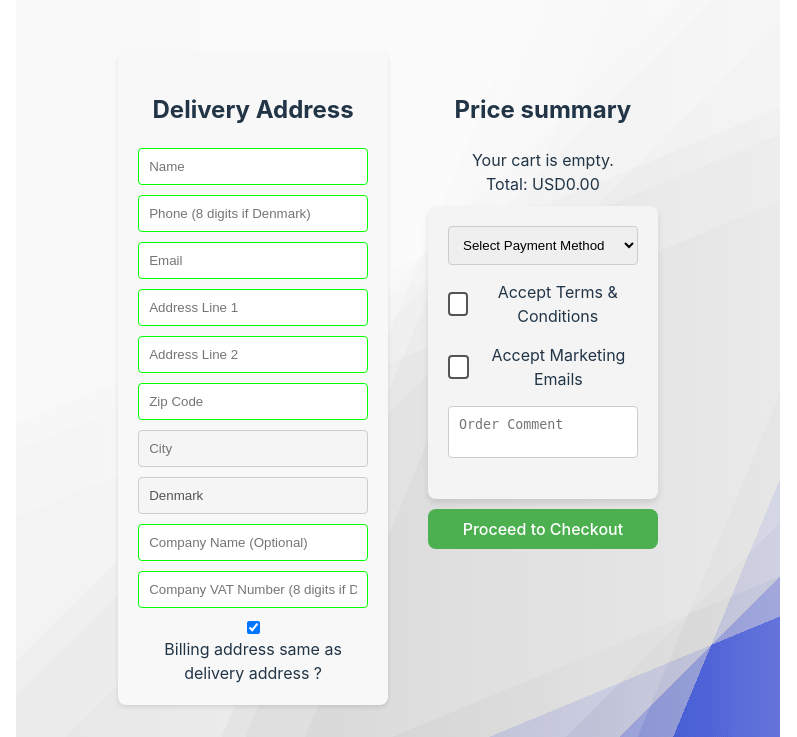
Test: App › displays "Invalid zip code" error for incorrect zip code input
(page scrolled)
Step 1. Type "0000" into the field with placeholder "Zip Code" → (253, 402), box [138, 383, 368, 420]
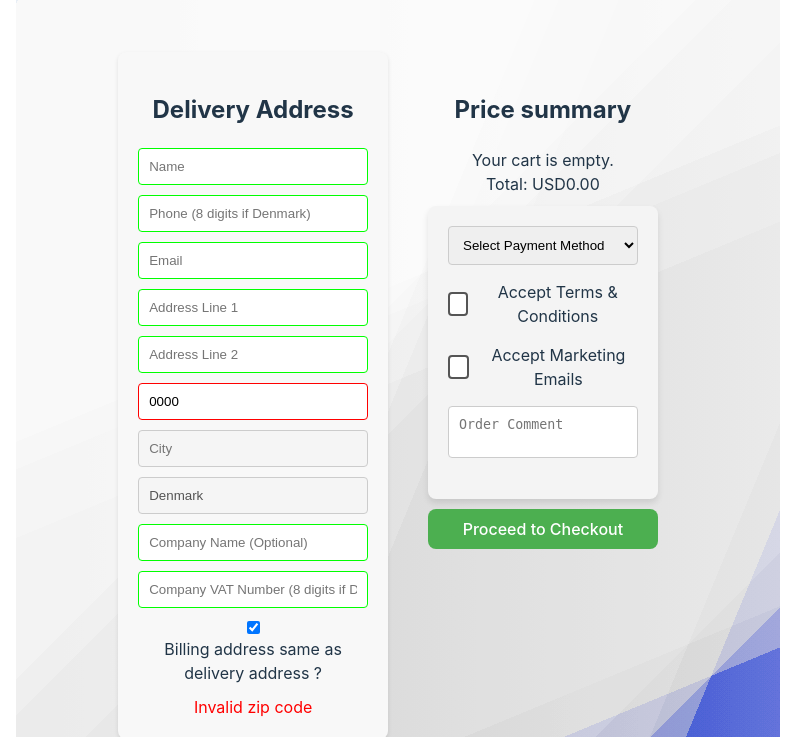
Result: the text "Invalid zip code" is shown at [194, 697, 312, 717]
